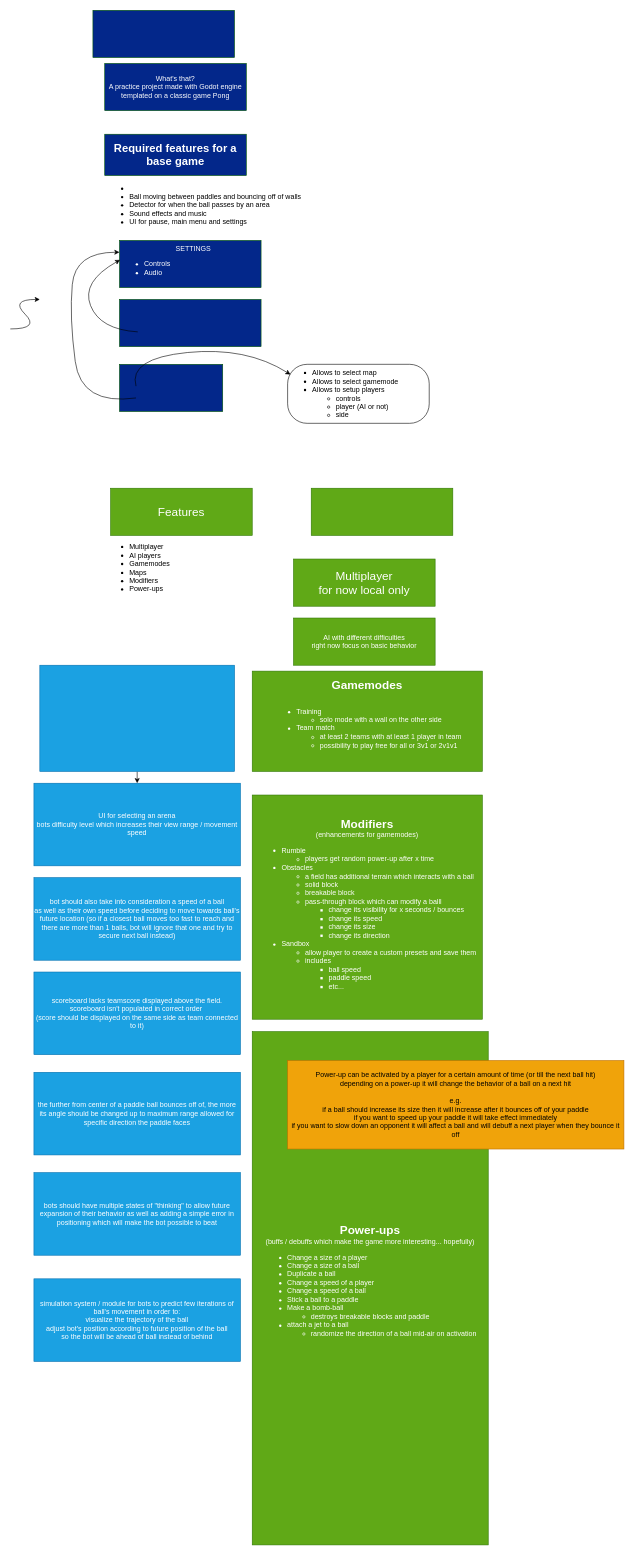
The diagram is 634 pixels wide and 1555 high, and some of its shapes have lost their labels. The centre of each missing label's shape, as x and y in pixels:
"Main Menu Play Settings Quit - closes the game" belongs at (171,388).
"PAUSE Resume Settings Quit" belongs at (190,323).
"TODO:" belongs at (137,718).
